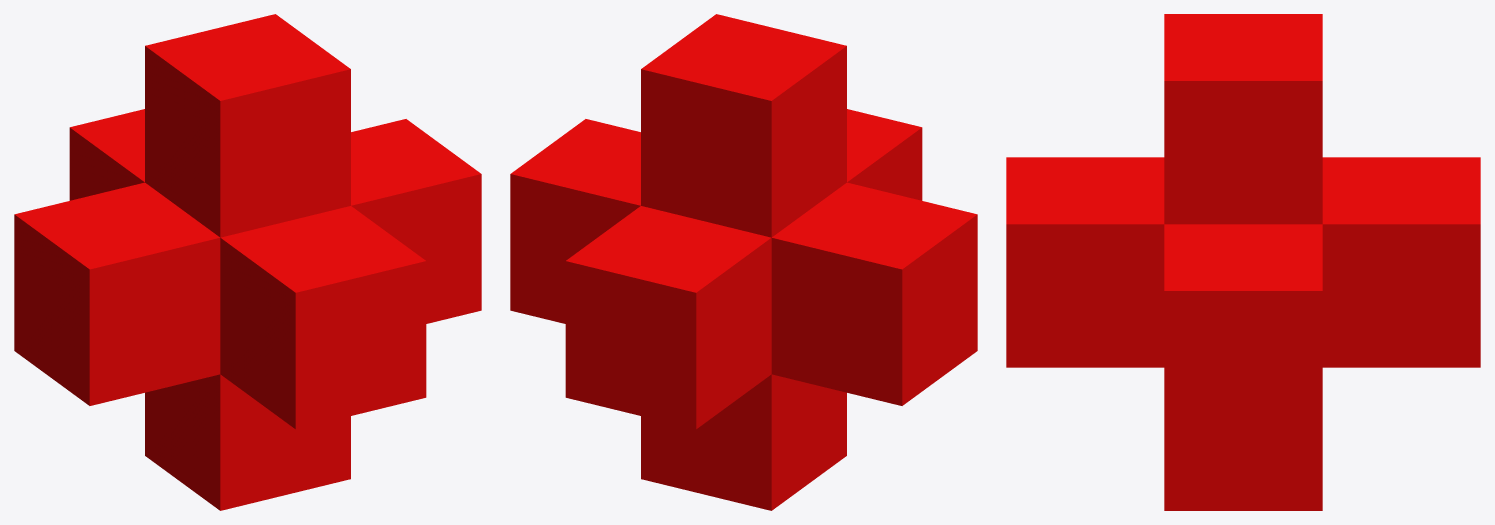
The model's file is red_cross.glb.
3 views of the same model, side by side, from view 1: azimuth 30°, elevation 25°; view 2: azimuth 150°, elevation 25°; view 3: azimuth 270°, elevation 25° (orthographic). The views are drawn at different scales.
Parts seen in each view (by area): view 1: Cube; view 2: Cube; view 3: Cube.
Part boxes in pixels (bbox=[...]): Cube: bbox=[14, 14, 481, 510]; Cube: bbox=[510, 14, 977, 510]; Cube: bbox=[1006, 14, 1480, 510].
Size of the model in its own units: 6 by 6 by 6.
